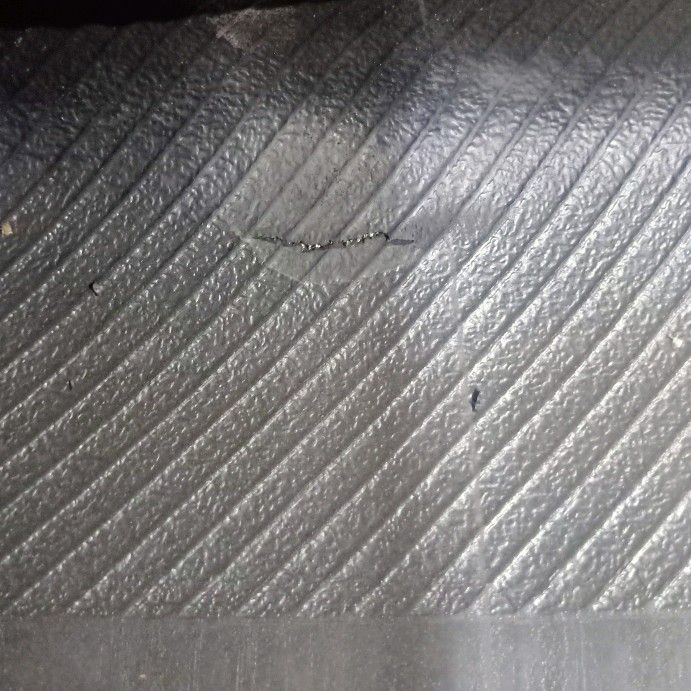CBU: (238, 209, 441, 277)
